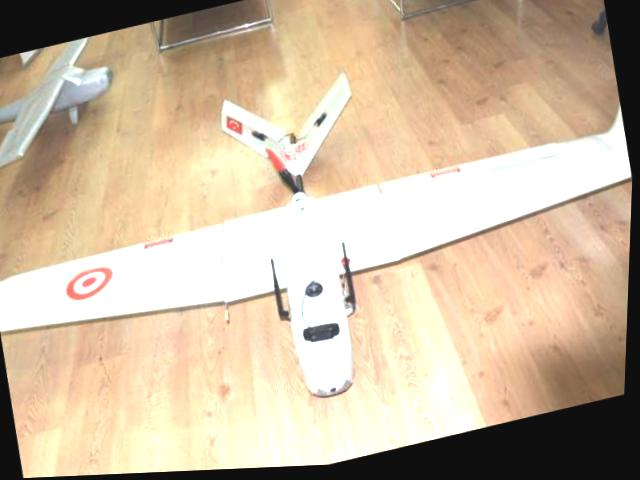iha: (0, 13, 639, 475)
